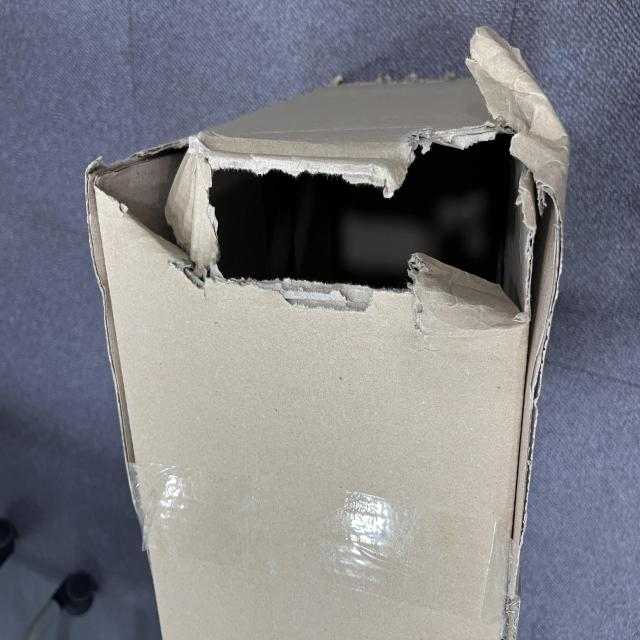damaged: (246, 283, 396, 640)
